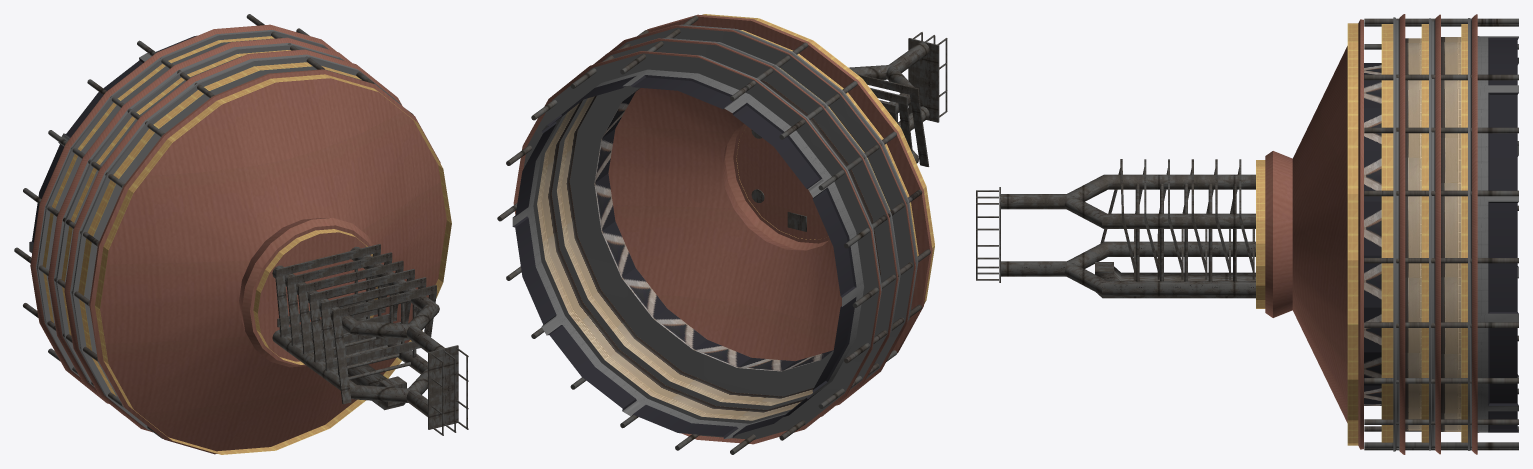
File: buid12.gltf
3 renders of one model, left to right at view 1: azimuth 30°, elevation 25°; view 2: azimuth 150°, elevation 25°; view 3: azimuth 270°, elevation 25°, orthographic. The views are drawn at different scales.
Size of the model in its own units: 77.66 by 77.66 by 94.89.
Materials: 7 (7 with a texture image).
